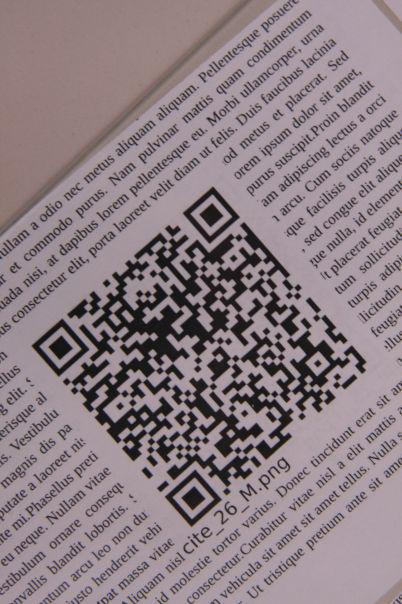Finder pattern: (180, 183, 248, 247), (161, 466, 229, 525), (32, 320, 90, 377)
